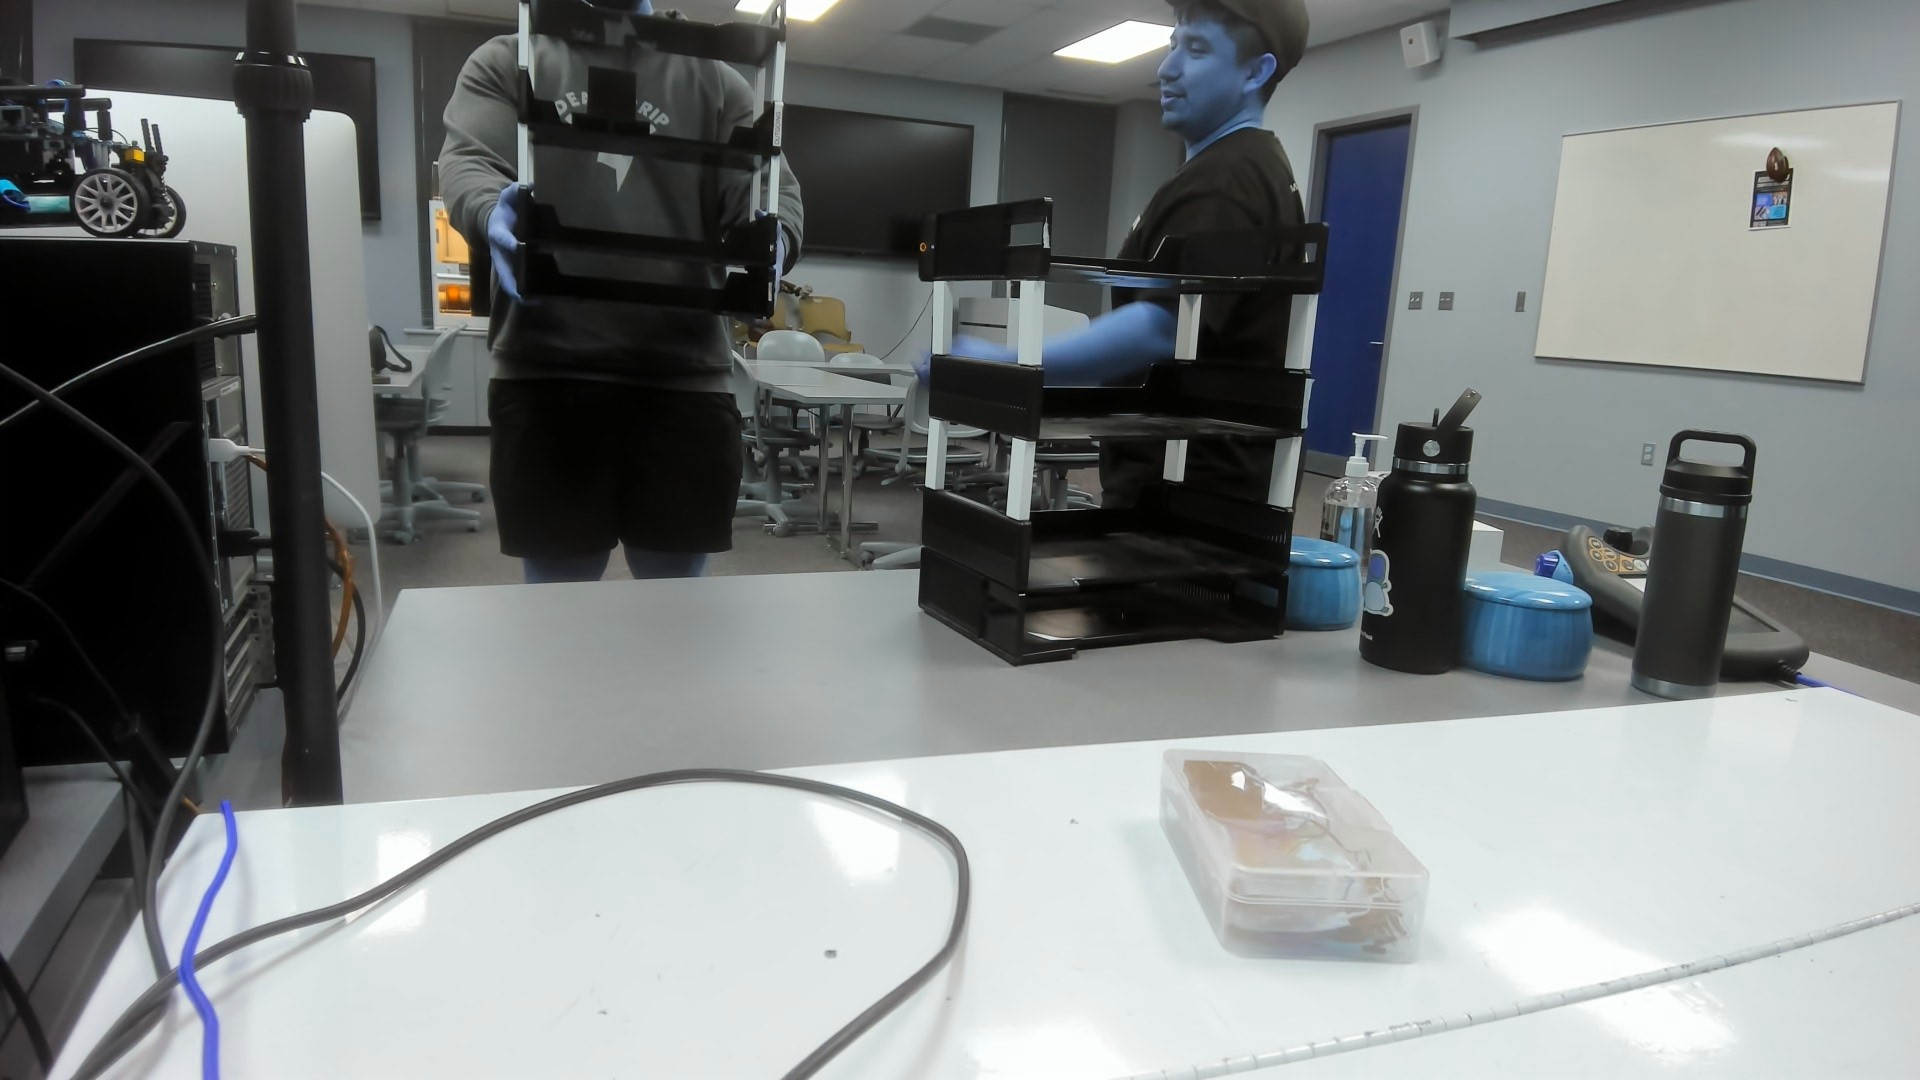black pallet: (564, 59, 654, 146)
